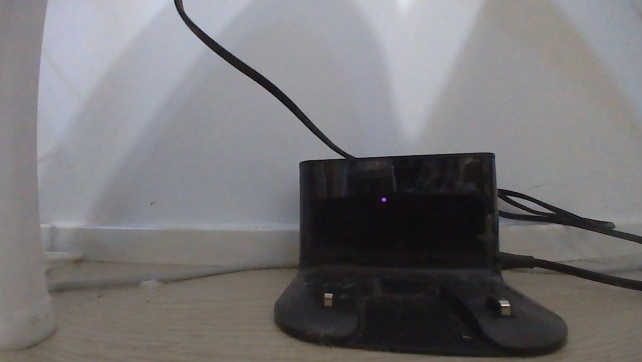charger: (268, 149, 572, 361)
wire: (169, 0, 360, 159), (45, 254, 301, 298), (496, 184, 641, 244), (497, 244, 641, 296)
